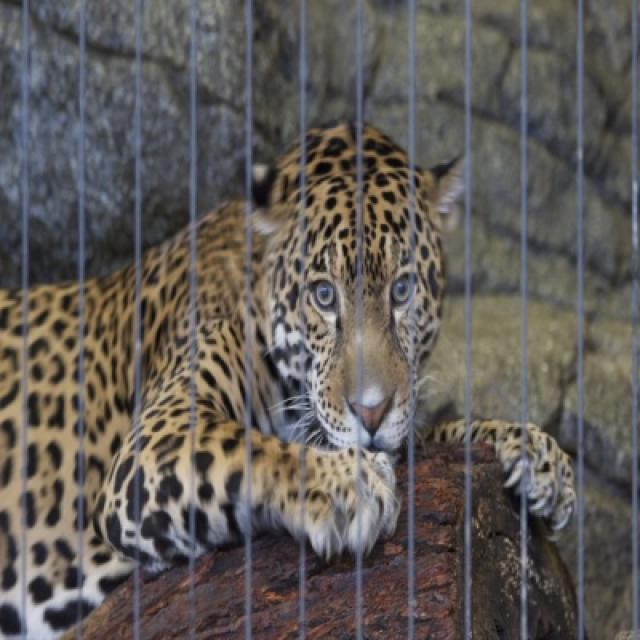Jaguar: (0, 122, 462, 638)
